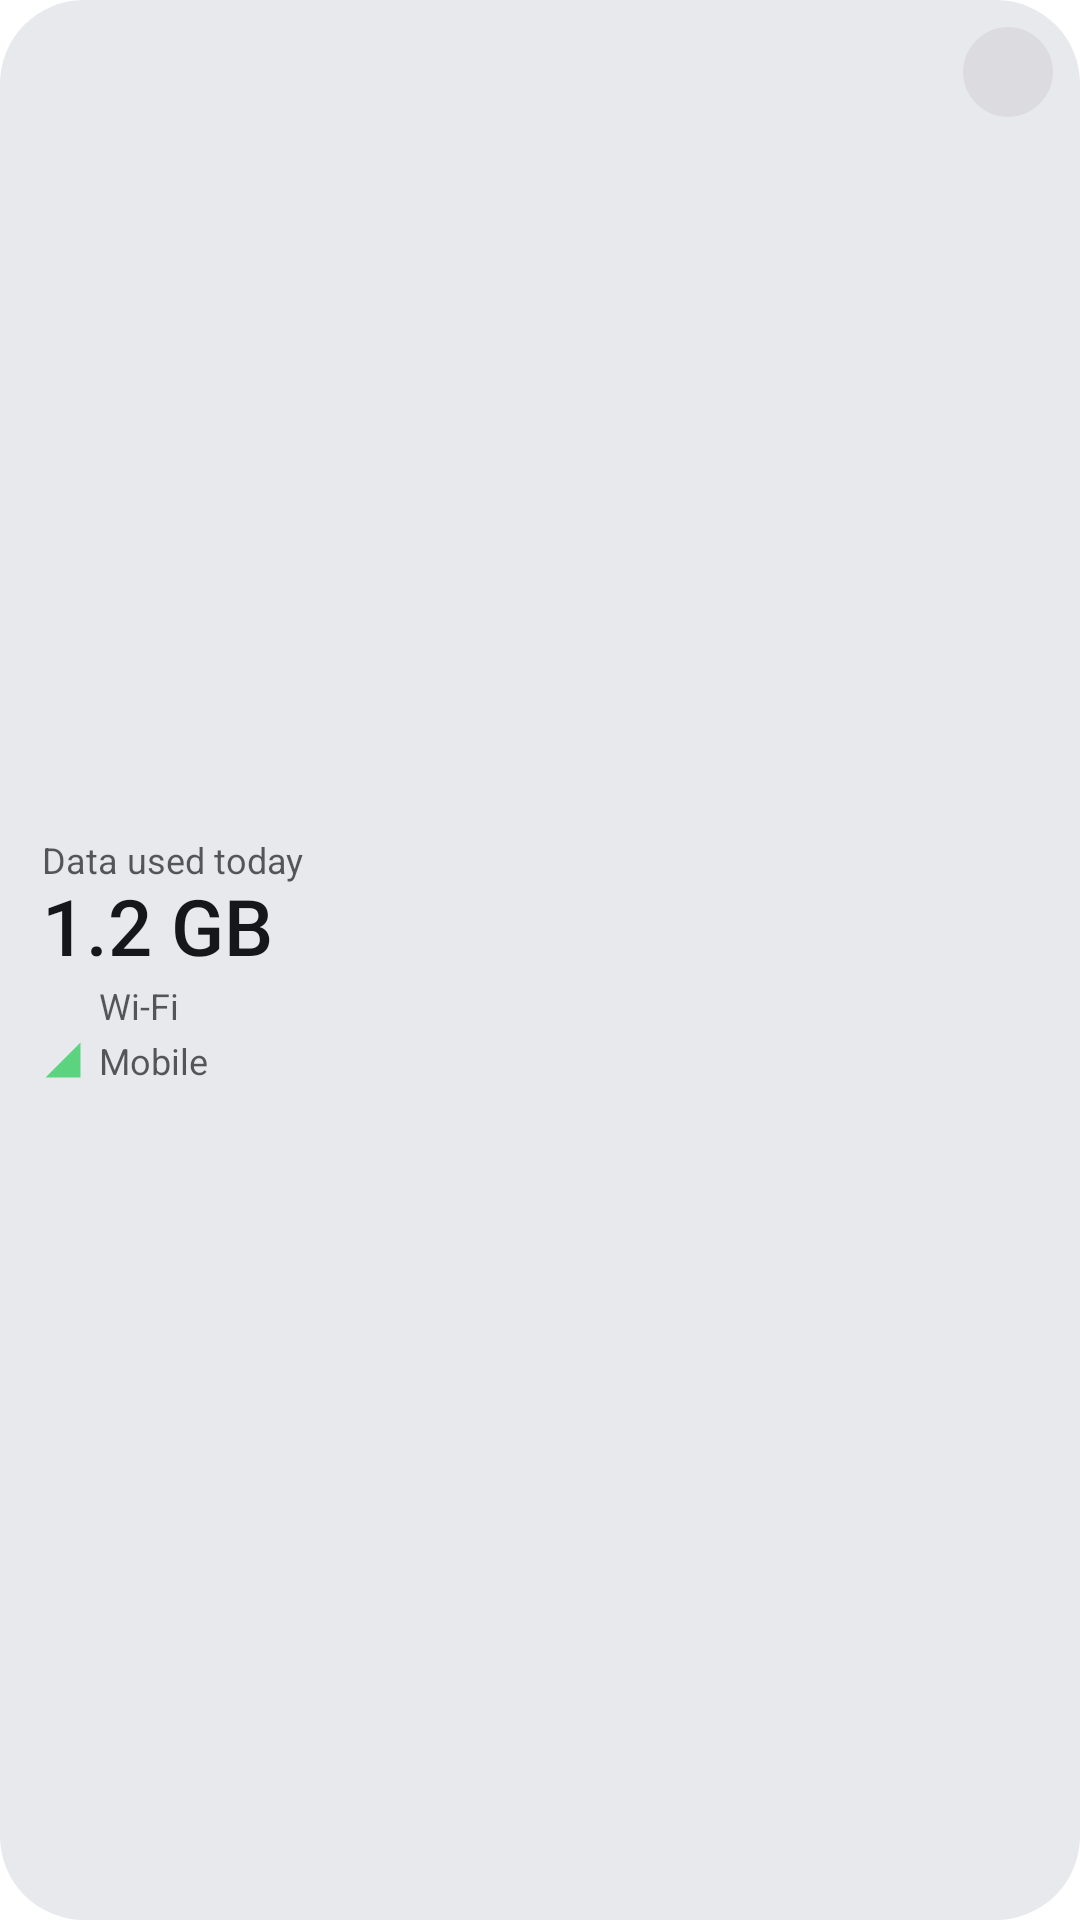

Named icons in this screenshot (1080 × 1920) and their bounding boxes, [x1, y1, x2, y2]:
cell: [46, 1043, 81, 1078]
